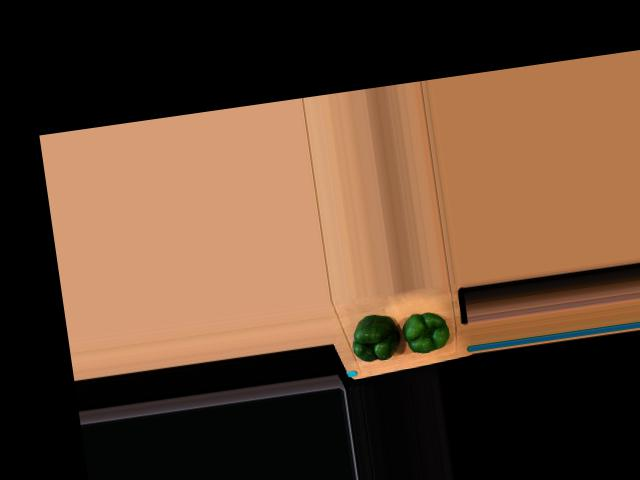bell_pepper: (398, 304, 450, 356)
